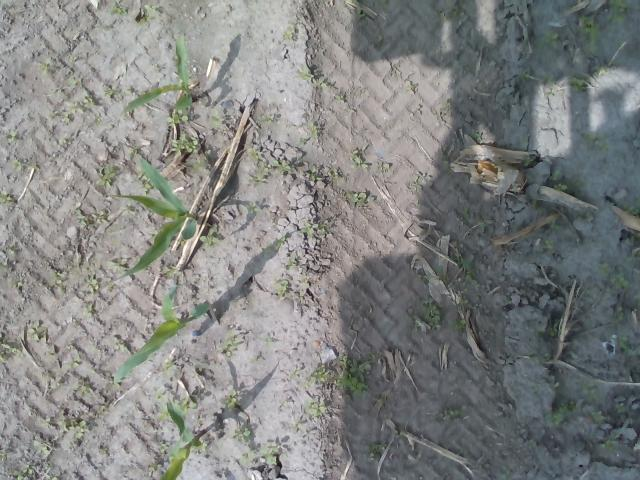Maize: (108, 153, 202, 282), (113, 288, 210, 386), (121, 33, 194, 112), (159, 399, 207, 480)
Weeds: (336, 350, 372, 397), (600, 258, 634, 296), (240, 443, 289, 467), (578, 13, 602, 54), (246, 146, 270, 186), (545, 397, 576, 424), (64, 96, 94, 122), (290, 368, 328, 388), (459, 256, 481, 286), (60, 417, 88, 440), (220, 329, 242, 358), (192, 144, 212, 172), (170, 134, 198, 154), (96, 163, 119, 187), (200, 224, 222, 248), (420, 300, 442, 324), (607, 1, 628, 25), (551, 168, 569, 194), (12, 158, 40, 174), (303, 220, 327, 236), (349, 149, 368, 169), (580, 382, 598, 403), (230, 426, 252, 443), (367, 442, 384, 464), (180, 396, 198, 416), (542, 30, 560, 50), (62, 352, 82, 370), (570, 77, 590, 94), (348, 190, 368, 207), (598, 436, 619, 452), (270, 158, 290, 174), (110, 0, 130, 16), (27, 320, 41, 342), (166, 111, 188, 125), (272, 278, 289, 296), (297, 65, 315, 82), (0, 348, 19, 364), (223, 390, 238, 410), (12, 467, 33, 480), (84, 275, 98, 294), (119, 202, 138, 216), (478, 217, 494, 233), (310, 403, 328, 417), (450, 318, 466, 333), (280, 28, 296, 43), (304, 165, 318, 182), (144, 2, 160, 16), (592, 63, 607, 77), (208, 111, 222, 126), (32, 440, 46, 455), (592, 409, 605, 424), (163, 358, 176, 373), (82, 303, 94, 319), (546, 320, 558, 336), (618, 334, 630, 350), (270, 236, 286, 248), (8, 278, 24, 290), (76, 208, 86, 226), (310, 122, 320, 139), (448, 407, 461, 420), (247, 201, 259, 215), (0, 190, 12, 204), (165, 266, 178, 278), (103, 86, 115, 99), (474, 131, 484, 146), (450, 6, 465, 16), (548, 222, 560, 234), (284, 258, 296, 270), (39, 63, 51, 75), (596, 139, 608, 151), (80, 383, 92, 395), (544, 85, 555, 98), (542, 239, 556, 249), (462, 206, 476, 216), (613, 402, 624, 414), (357, 7, 366, 21), (626, 206, 638, 216), (616, 312, 626, 324), (380, 162, 390, 173), (334, 95, 344, 106), (264, 114, 274, 125), (442, 158, 450, 171), (147, 462, 157, 472), (52, 271, 62, 281), (316, 78, 326, 88), (296, 137, 306, 146), (584, 133, 592, 144), (7, 131, 15, 141), (520, 72, 528, 81), (0, 262, 8, 271), (96, 116, 102, 126), (156, 392, 163, 400), (0, 452, 6, 460), (0, 1, 8, 6)
